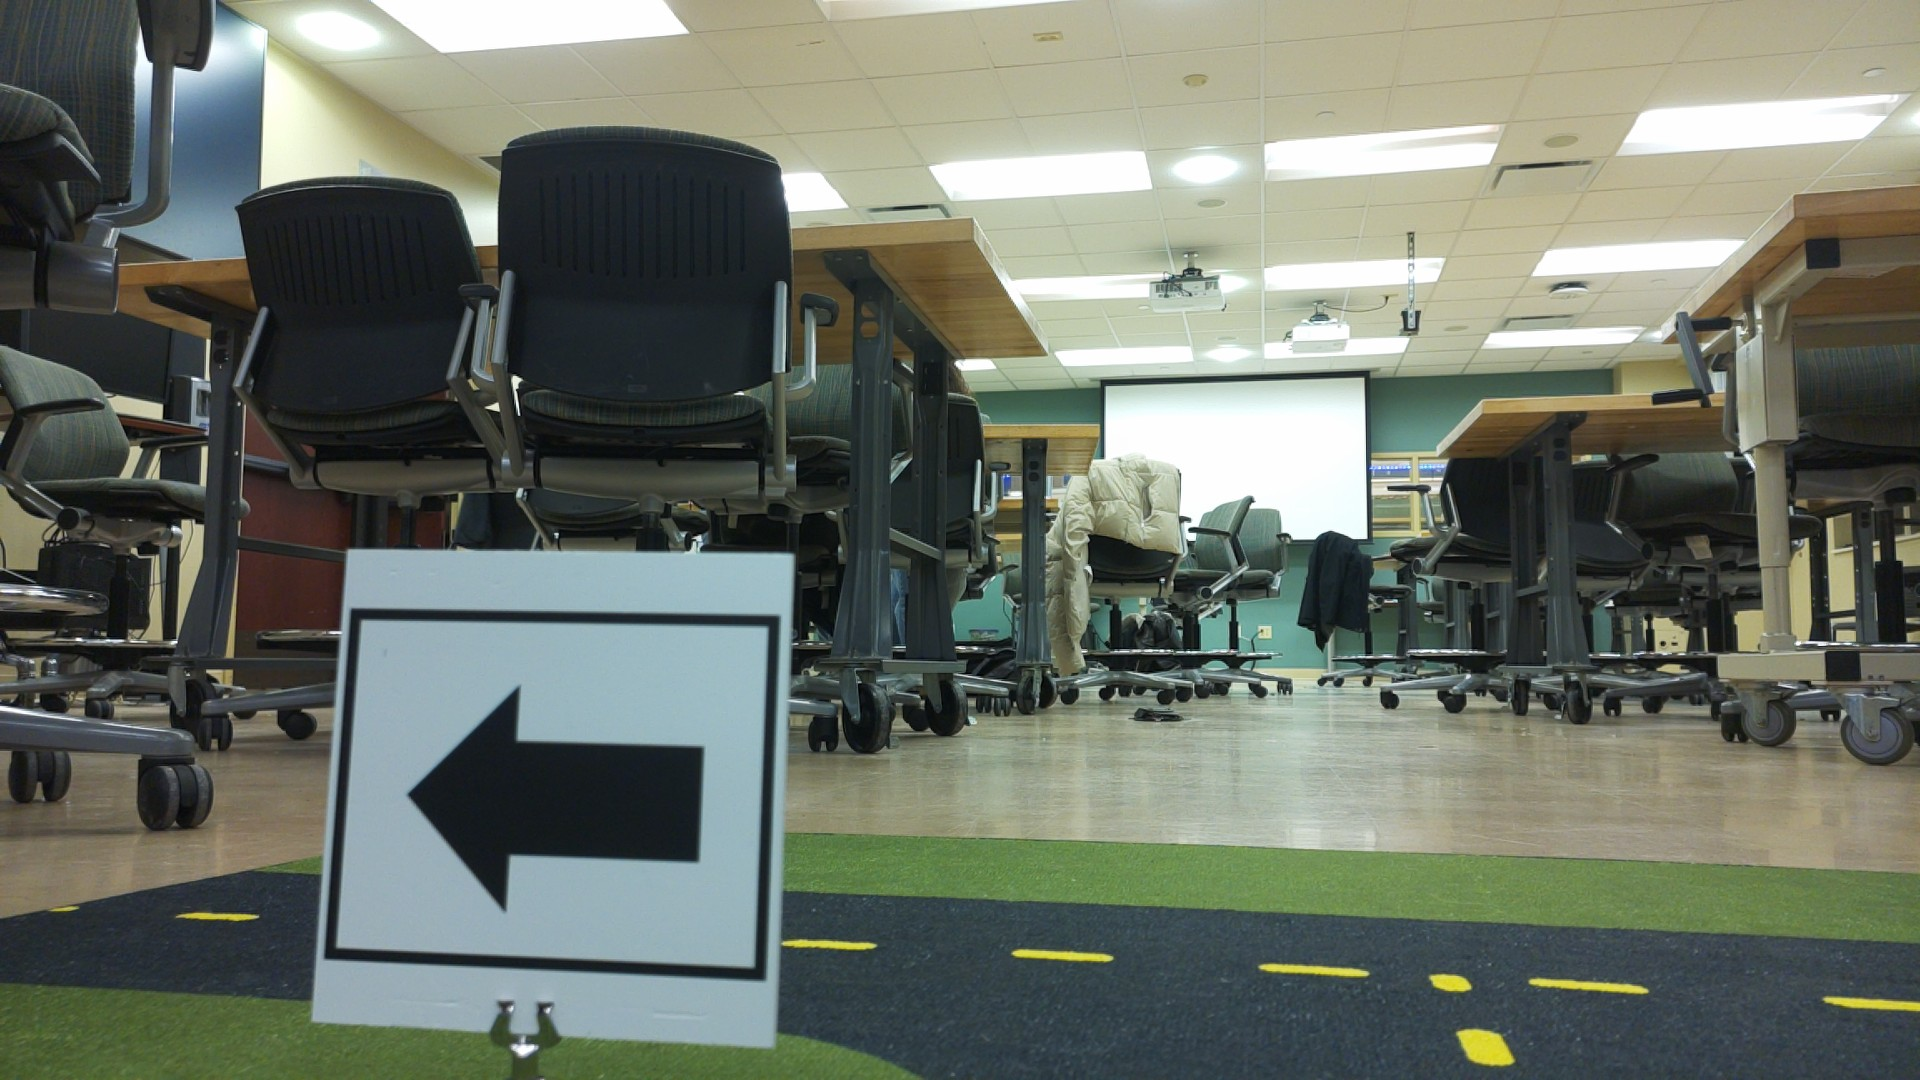turnleft: (356, 564, 769, 1048)
